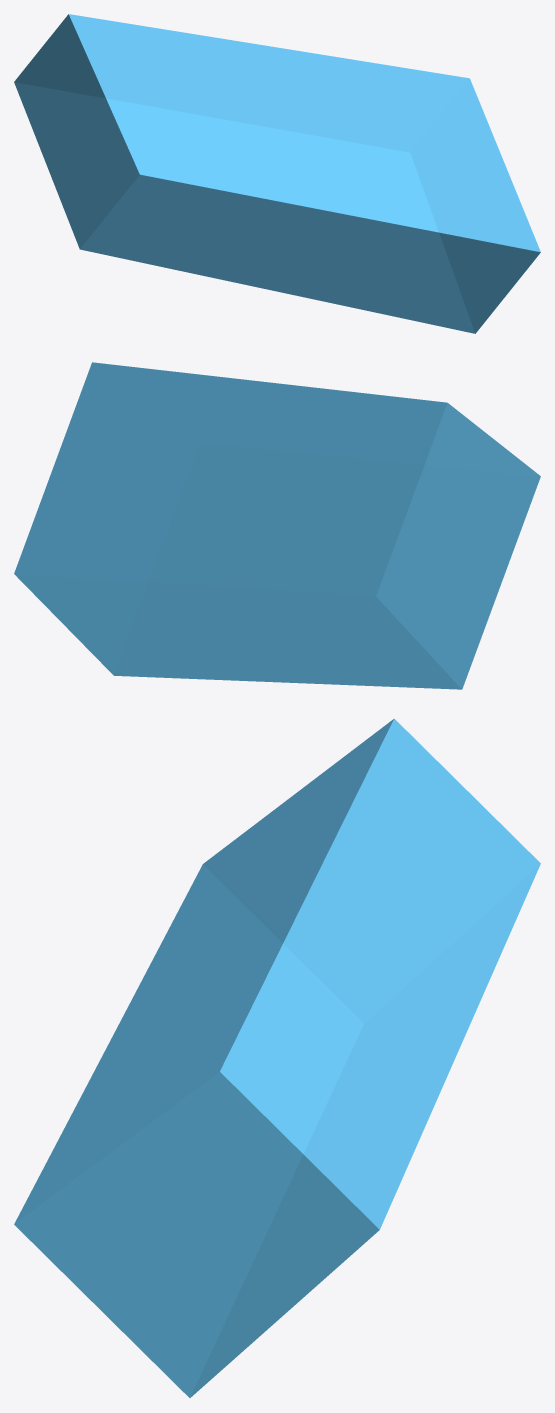
The model's file is Event_421278790_HErechit_9.fbx.
3 renders of one model, top to bottom at view 1: azimuth 30°, elevation 25°; view 2: azimuth 150°, elevation 25°; view 3: azimuth 270°, elevation 25°, orthographic. The views are drawn at different scales.
Visible parts, largest first — view 1: Model; view 2: Model; view 3: Model.
Boxes of the visible parts, x1,y1,x2,y2 form: Model: (14,14,540,333); Model: (14,362,540,689); Model: (14,718,540,1397).
Bounding box in the file's own units: 0.9113 × 0.8931 × 0.9208.
